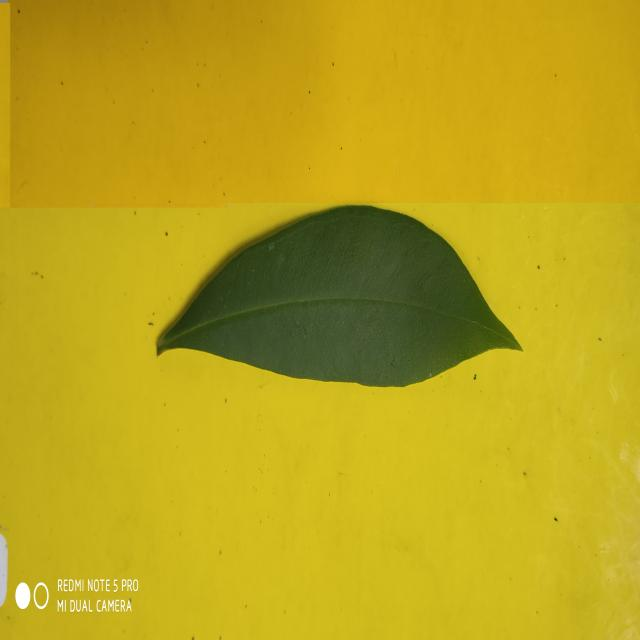nerale: (158, 207, 521, 387)
